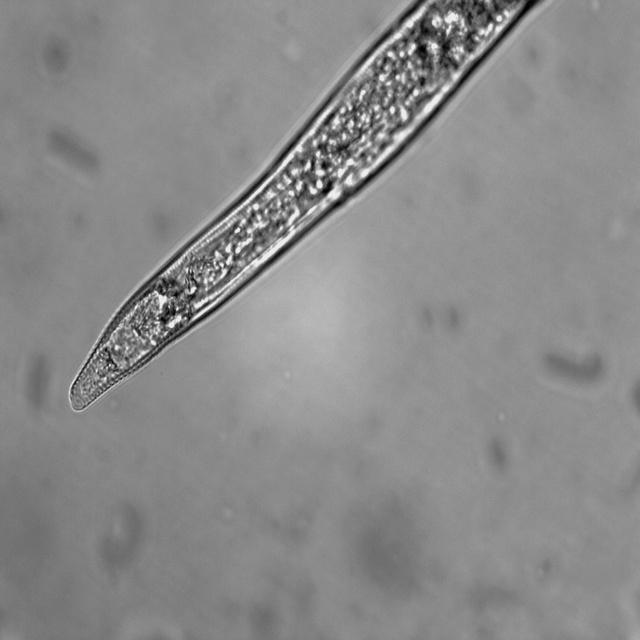Pratylenchus: (65, 0, 534, 414)
